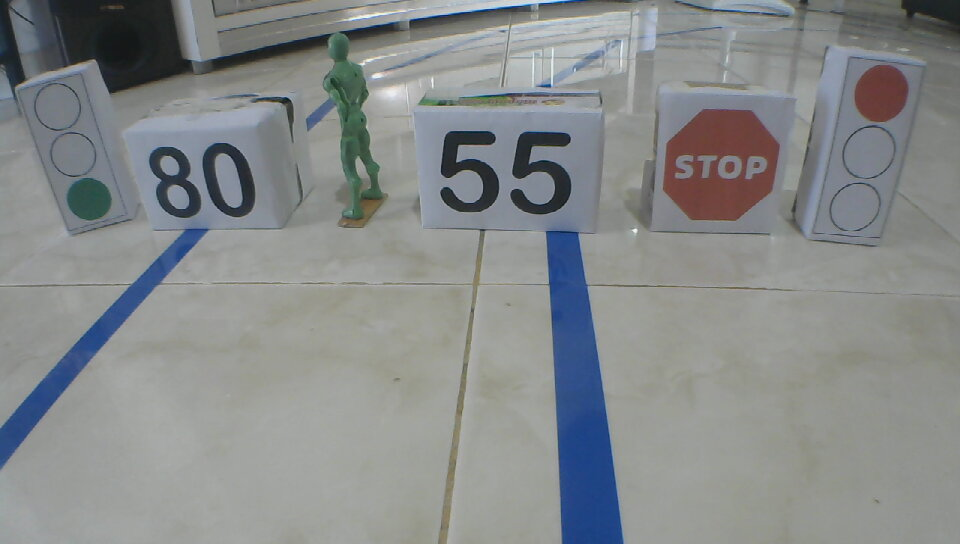Green Light: (33, 81, 113, 222)
Person: (317, 32, 387, 220)
Red Light: (827, 64, 908, 236)
Speed 55: (438, 129, 575, 216)
Speed 80: (149, 143, 255, 222)
Stop: (661, 108, 779, 223)
